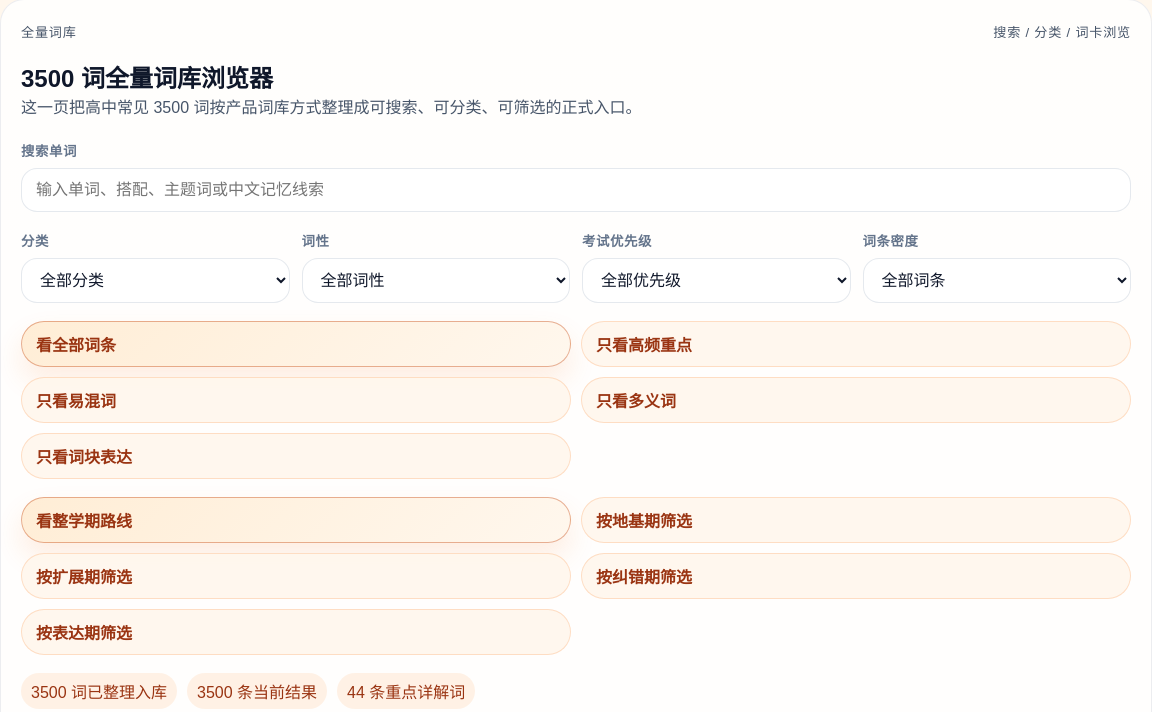
Scenario: english 3500 framework › supports visible stage selection state in the full bank explorer
The image size is (1152, 712).
Step 1. Click the button "按地基期筛选" → x=636, y=522, box [581,497,1131,543]
(page scrolled)
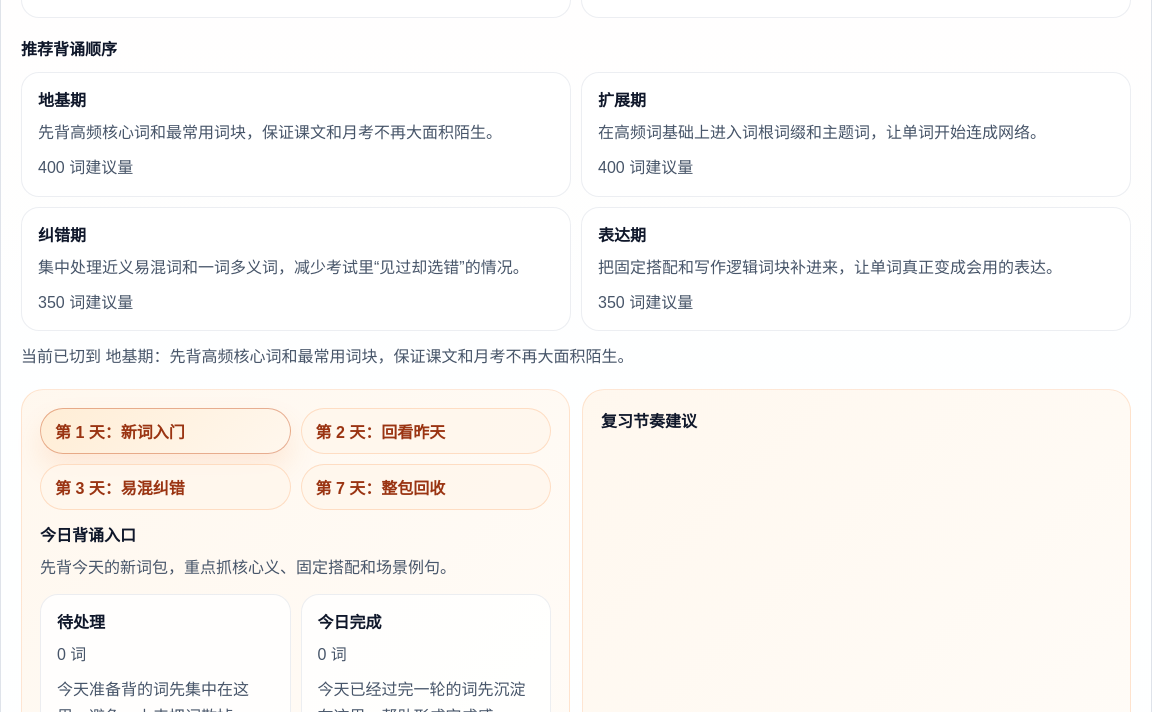
Expected: the text "当前已切到 地基期：先背高频核心词和最常用词块，保证课文和月考不再大面积陌生。" is shown, [21,348,634,365]
